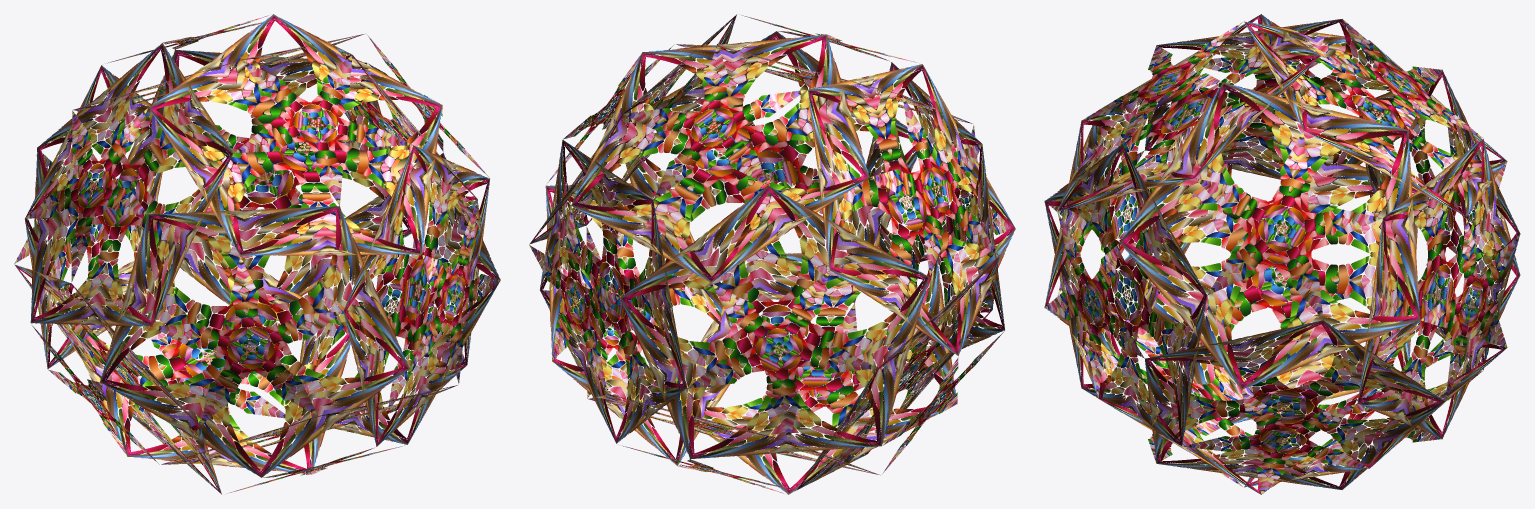
The model's file is SnubDodecadodecahedron.gltf.
3 renders of one model, left to right at view 1: azimuth 30°, elevation 25°; view 2: azimuth 150°, elevation 25°; view 3: azimuth 270°, elevation 25°, orthographic.
Visible parts, largest first — view 1: SnubDodecadodecahedron; view 2: SnubDodecadodecahedron; view 3: SnubDodecadodecahedron.
Boxes of the visible parts, bbox=[...] form: SnubDodecadodecahedron: bbox=[14, 14, 500, 494]; SnubDodecadodecahedron: bbox=[529, 14, 1015, 494]; SnubDodecadodecahedron: bbox=[1044, 14, 1520, 494].
Size of the model in its own units: 2.48 by 2.48 by 2.48.
1 material, 1 textured.
